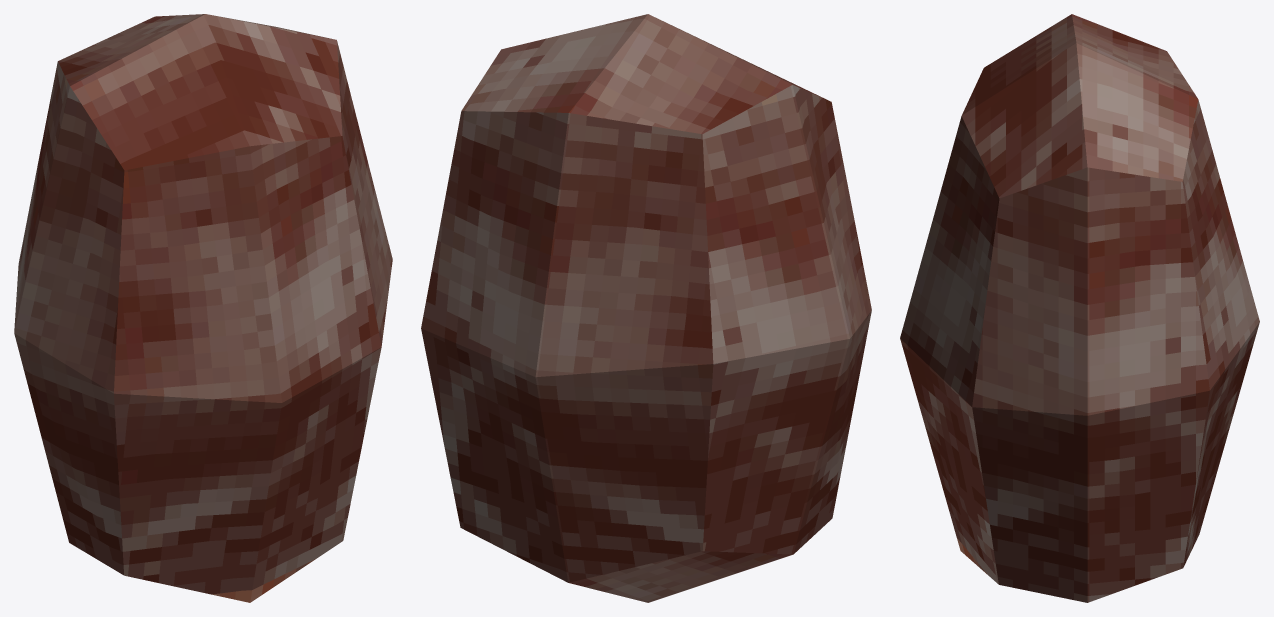
Rendered from meat_slab_alt.glb.
3 renders of one model, left to right at view 1: azimuth 30°, elevation 25°; view 2: azimuth 150°, elevation 25°; view 3: azimuth 270°, elevation 25°, orthographic. The views are drawn at different scales.
Visible parts, largest first — view 1: meat_slab_alt; view 2: meat_slab_alt; view 3: meat_slab_alt.
Boxes of the visible parts, x1,y1,x2,y2 form: meat_slab_alt: (14,14,392,602); meat_slab_alt: (421,14,871,602); meat_slab_alt: (900,14,1259,602).
Size of the model in its own units: 0.3511 by 0.4965 by 0.2968.
1 material, 1 textured.
